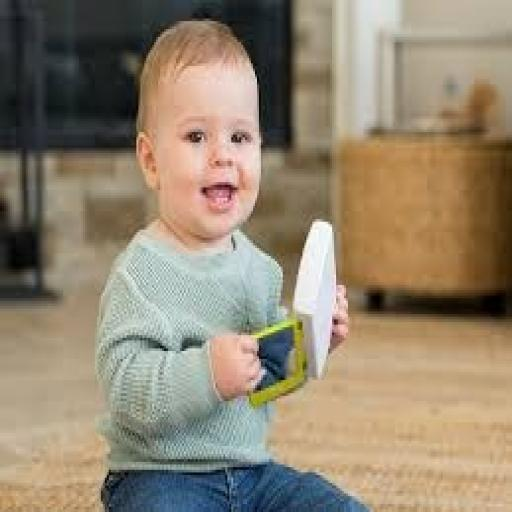baby: (95, 22, 365, 511)
